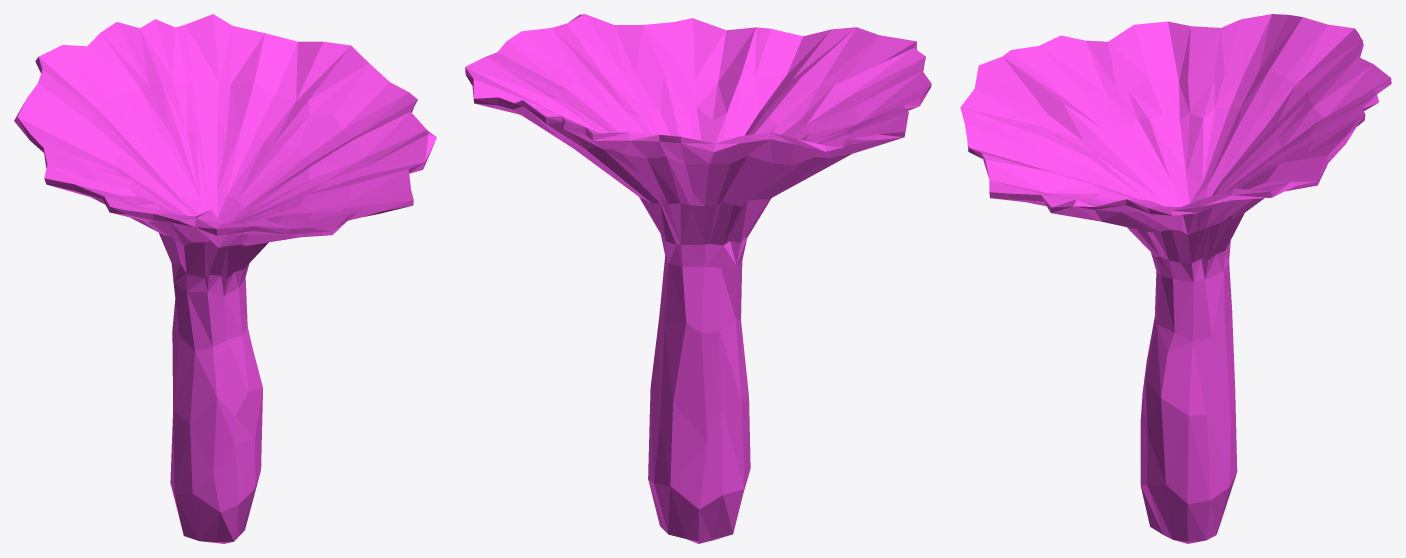
Rendered from SM_Mushroom_Trumpet_Giant_A_Fantasy.fbx.
The picture shows the model from 3 angles, left to right: view 1: azimuth 30°, elevation 25°; view 2: azimuth 150°, elevation 25°; view 3: azimuth 270°, elevation 25°; orthographic projection. The views are drawn at different scales.
Visible parts, largest first — view 1: SM_Mushroom_Trumpet_Giant_A_Fantasy; view 2: SM_Mushroom_Trumpet_Giant_A_Fantasy; view 3: SM_Mushroom_Trumpet_Giant_A_Fantasy.
Part boxes in pixels (<box>): SM_Mushroom_Trumpet_Giant_A_Fantasy: <box>14,14,436,543</box>; SM_Mushroom_Trumpet_Giant_A_Fantasy: <box>465,14,931,543</box>; SM_Mushroom_Trumpet_Giant_A_Fantasy: <box>960,14,1391,543</box>.
Bounding box in the file's own units: 6.29 × 7.32 × 6.19.
